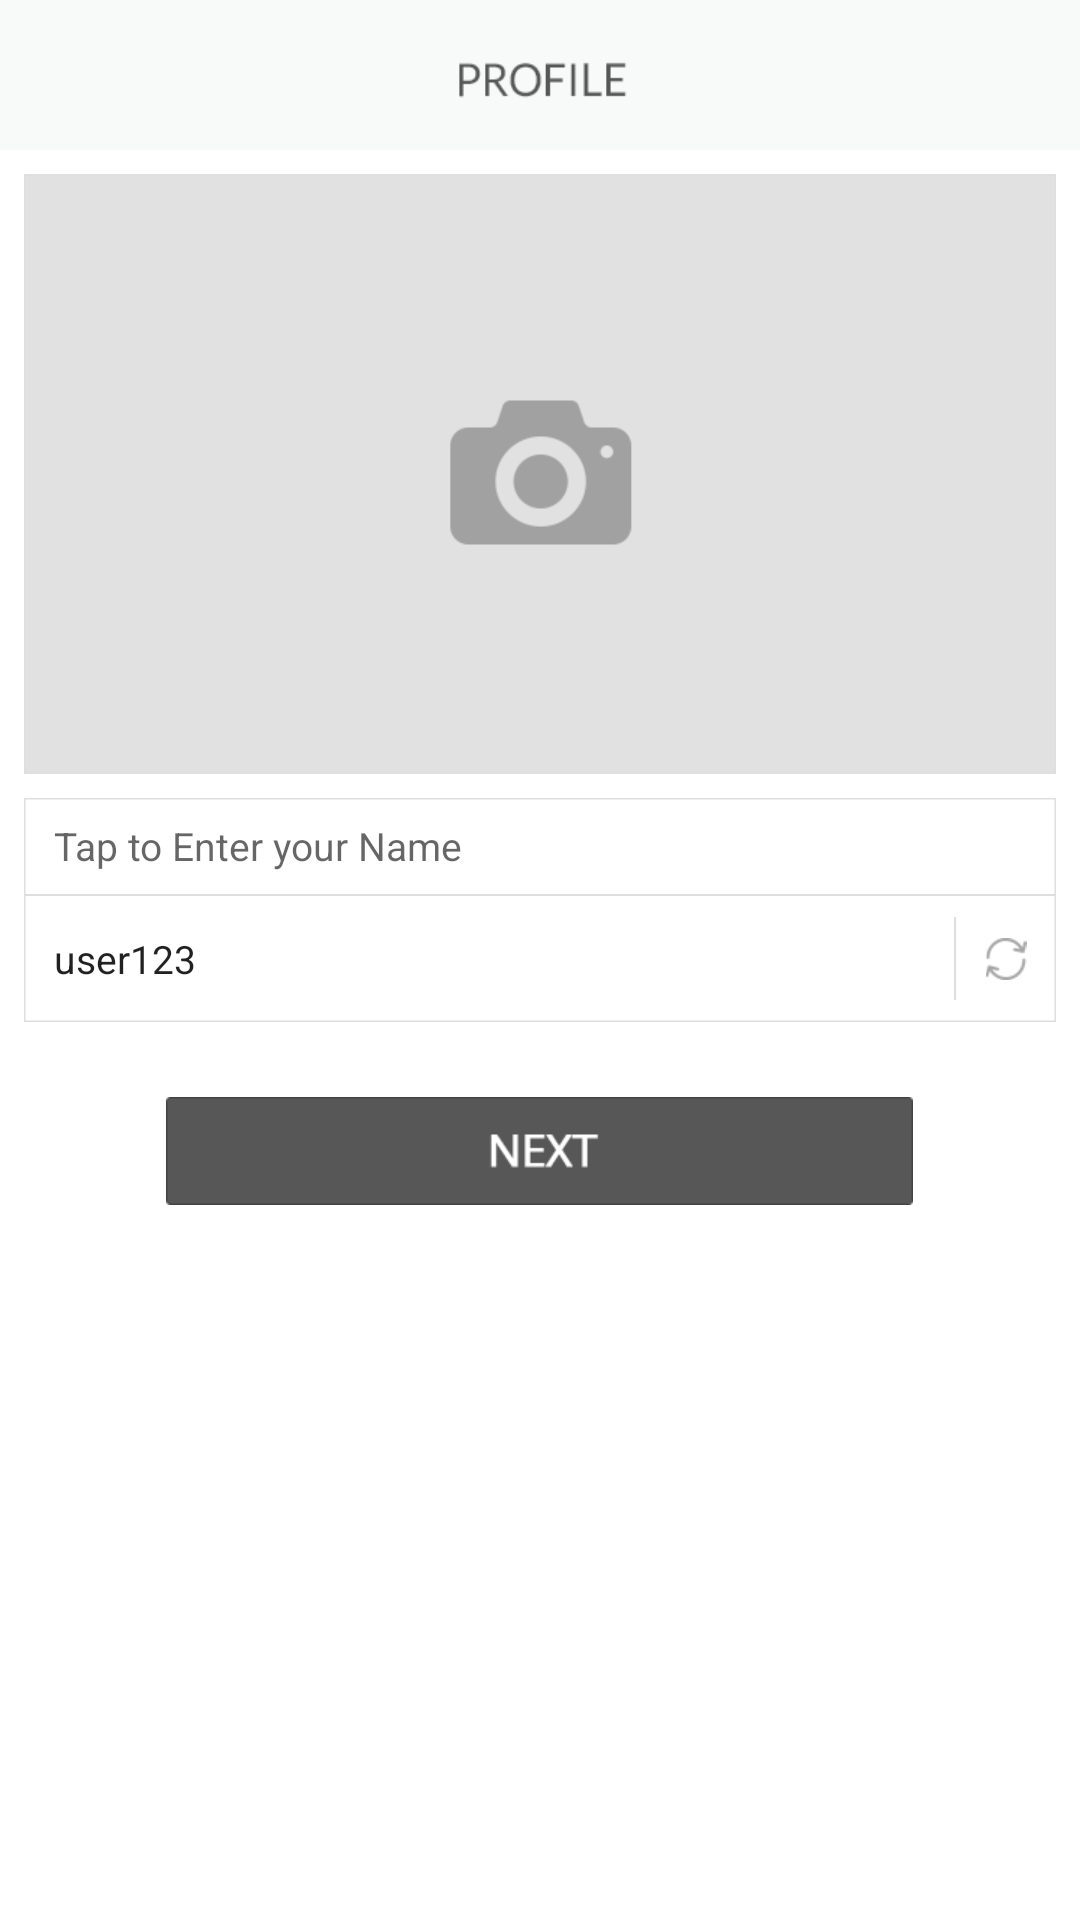

Named icons in this screenshot (1080x1920) and their bounding boxes, (x1, y1, x2, y2):
refresh: (986, 938, 1027, 980)
